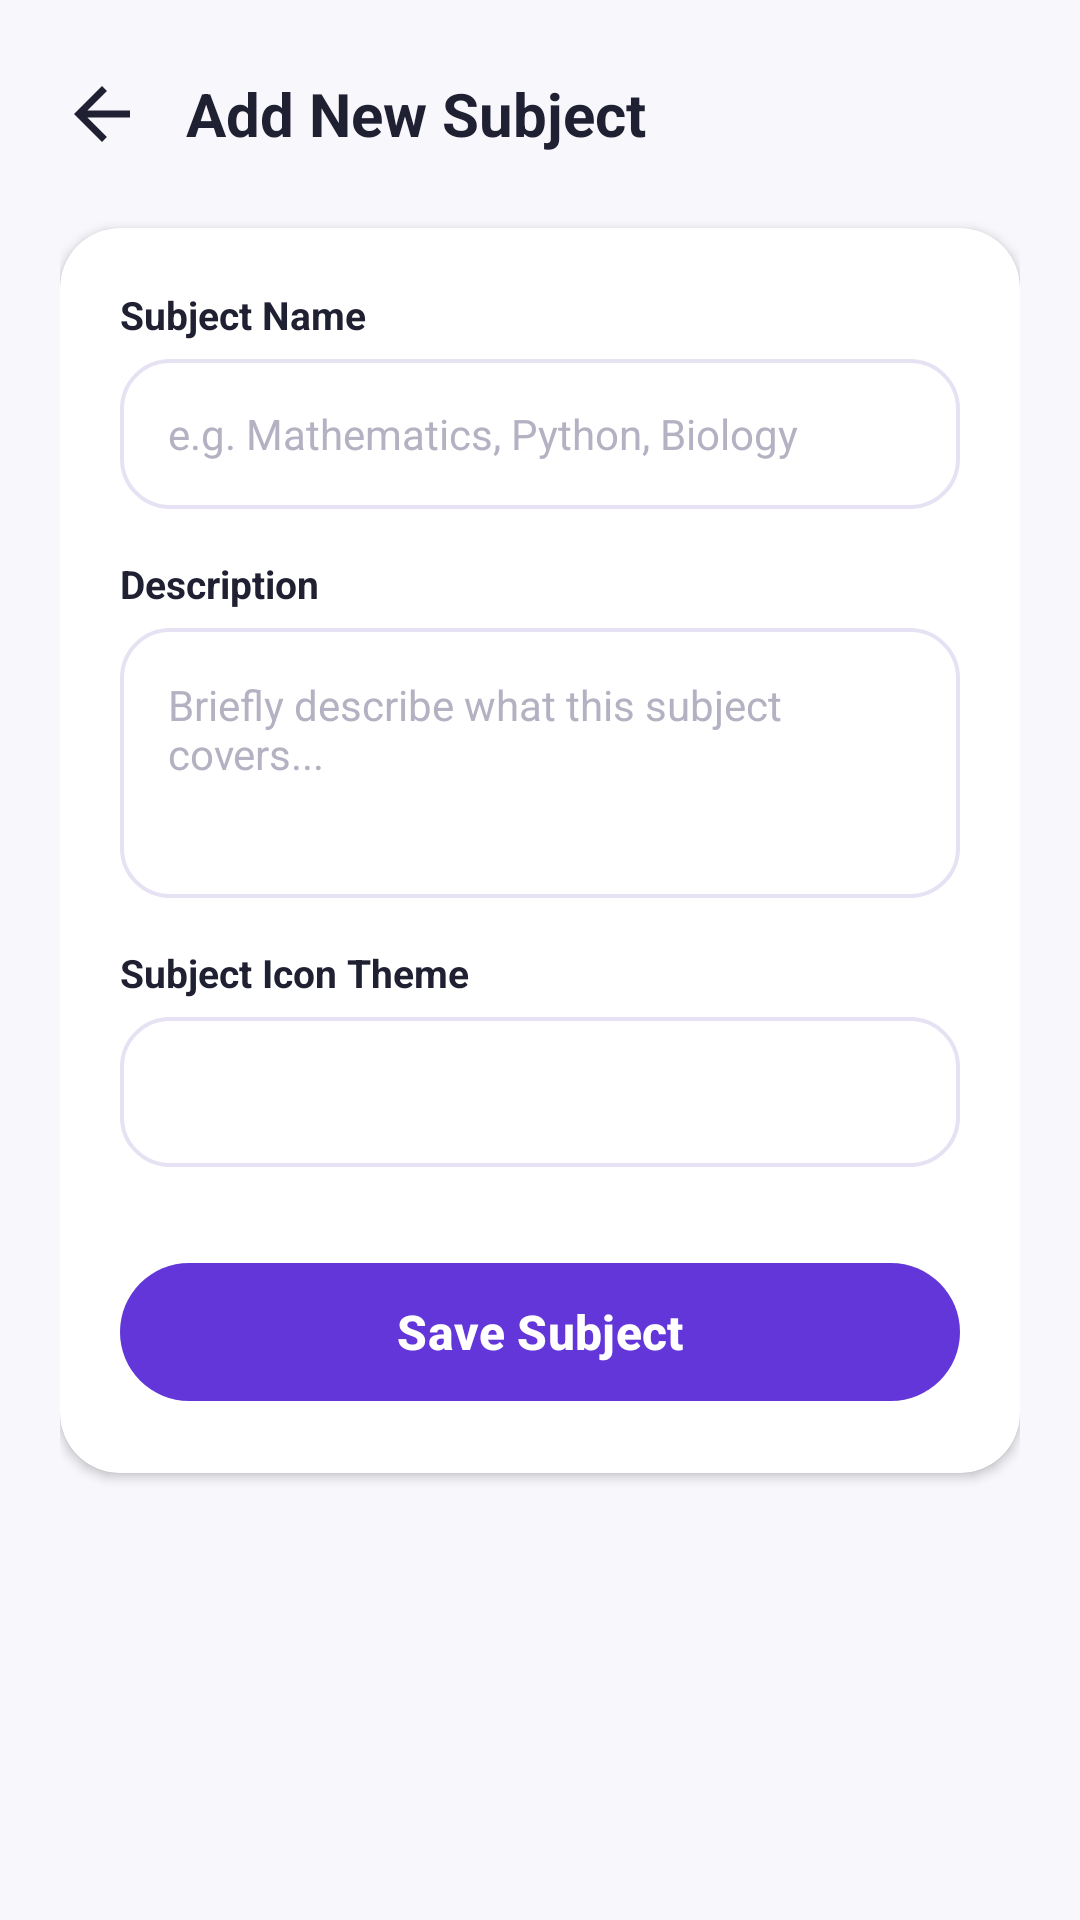

Screen size 1080×1920. Icon name, then its box in pixels as (x1, y1, x2, y2):
Back: (74, 86, 130, 142)
